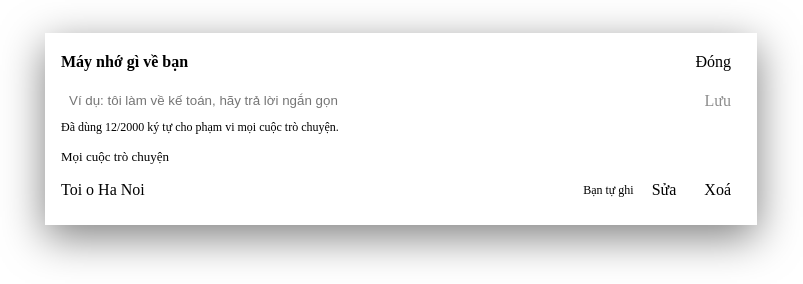
it: nut trong hang sua noi ro no thao tac len mau NAO › hai nut "Luu" tren mot man hinh phai phan biet duoc
The image size is (803, 284).
Click the button with aria-label "Sửa: Toi o Ha Noi".
click(664, 190)  # box top-left (642, 177), bottom-right (686, 203)
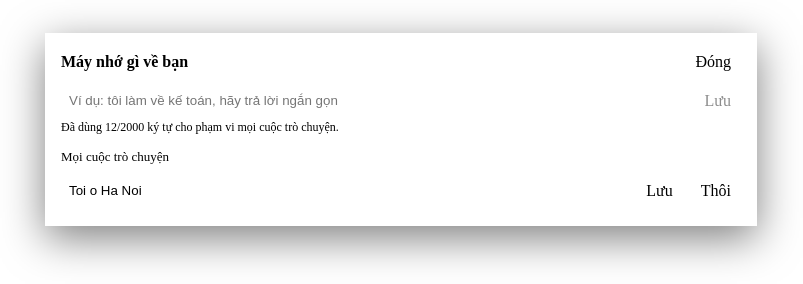
Expected: the button with aria-label "Lưu sửa: Toi o Ha Noi" is shown, top-left (636, 178), bottom-right (683, 204)
Expected: the button with aria-label "Thôi sửa: Toi o Ha Noi" is shown, top-left (691, 178), bottom-right (741, 204)
